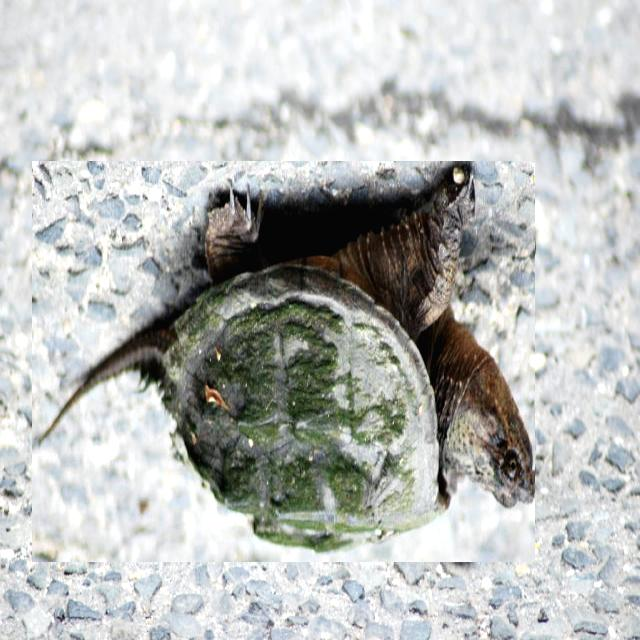Sea turtle: (32, 162, 535, 564)
